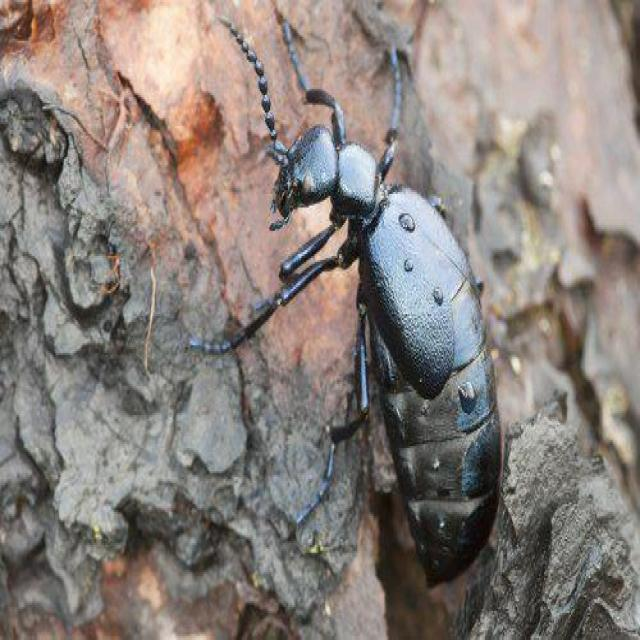BlisterBeetle-Adult-: (183, 9, 507, 592)
